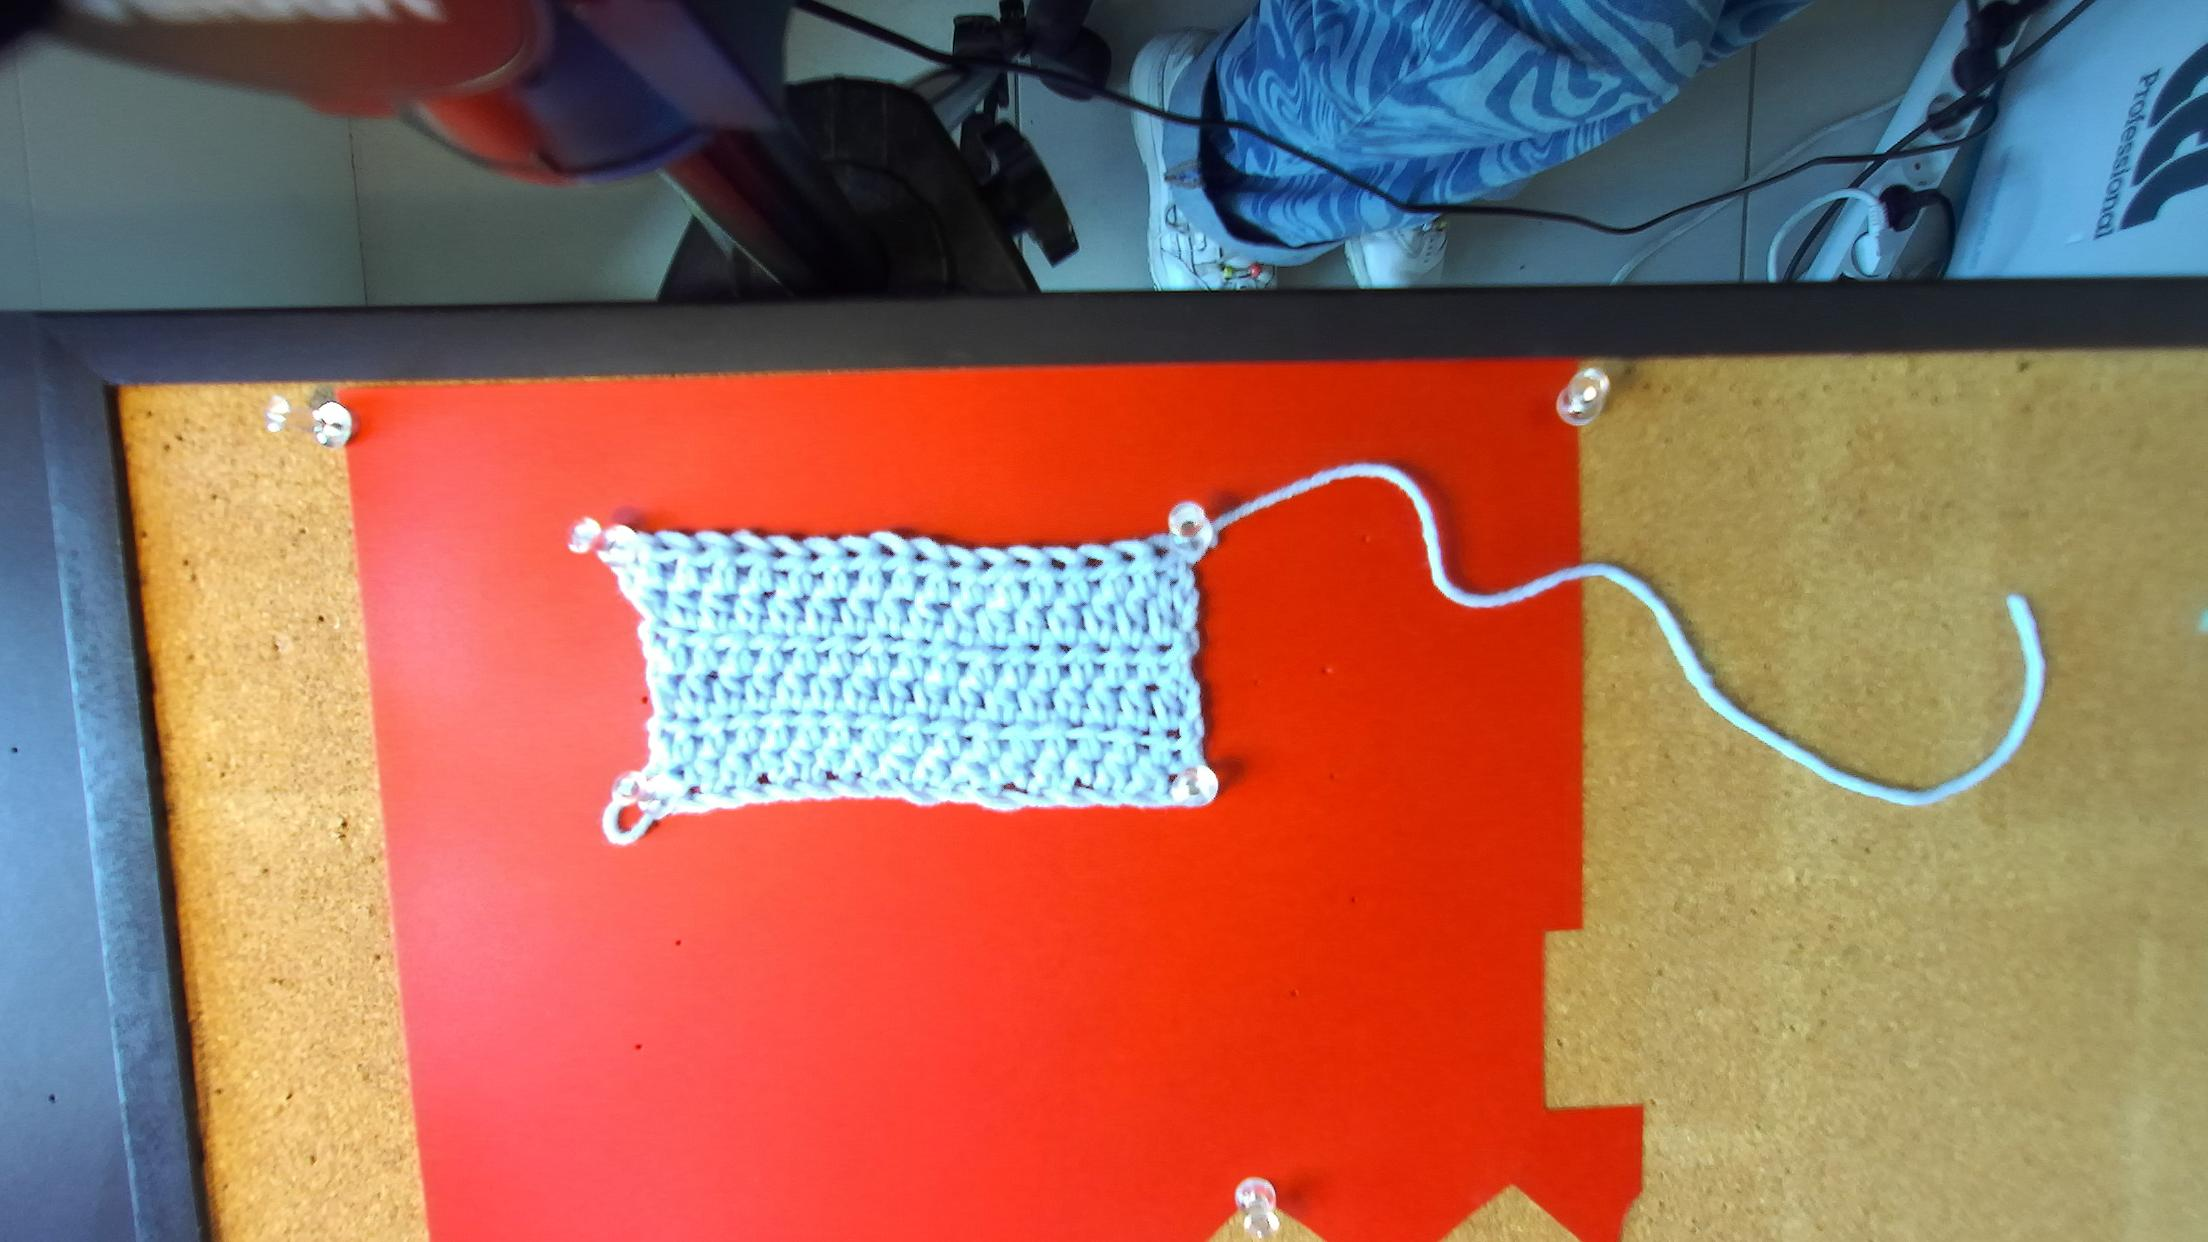hole: (690, 541, 713, 555), (767, 546, 789, 560), (1049, 557, 1068, 572), (1084, 557, 1104, 570), (943, 557, 964, 569), (880, 543, 898, 557), (914, 550, 933, 564), (1153, 546, 1171, 560), (978, 560, 995, 573), (731, 543, 752, 554), (1118, 552, 1136, 564), (652, 541, 675, 550), (845, 547, 863, 558), (808, 550, 823, 561), (1015, 560, 1033, 567)
swatch: (579, 508, 1225, 849)
